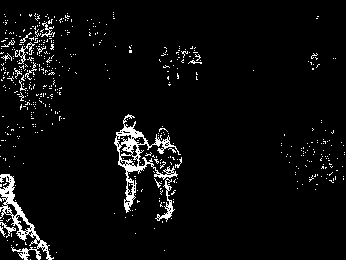person: (113, 113, 149, 212), (148, 126, 182, 222)
